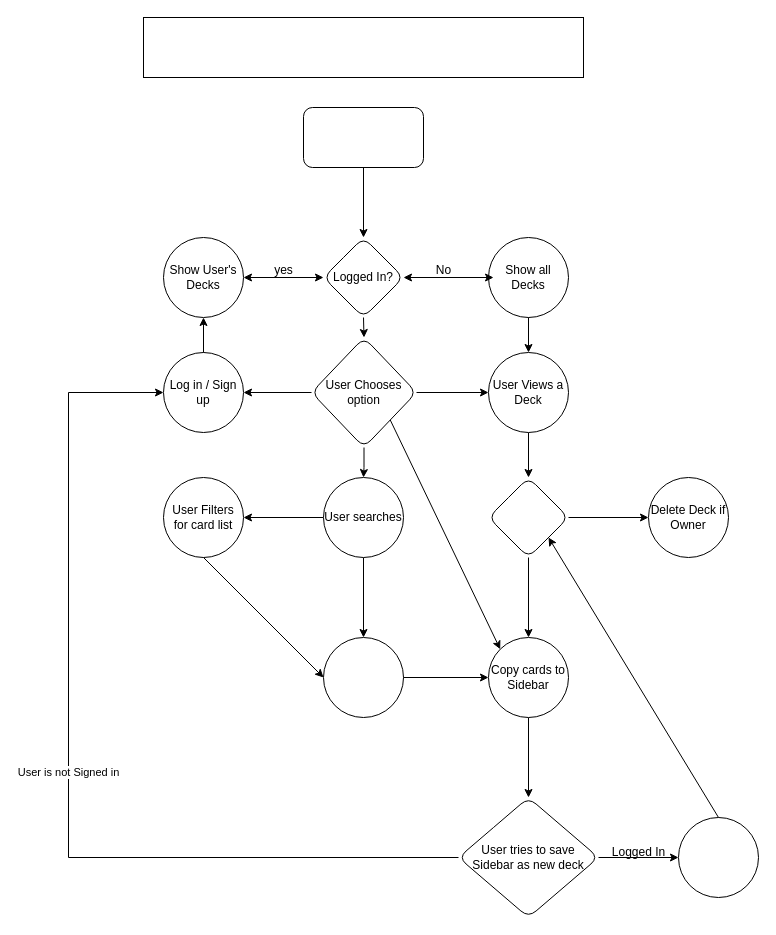
Some shapes in this 776 by 935 pixel diagram are drawn without their labels. Here are the shapes that lost their labels. From the top down, the centre of each, then its label:
the point at 363,47: Spellbinder User Flow Chart
the point at 363,137: Navigate to Spellbinder
the point at 528,517: Interact with Deck
the point at 363,677: Goes to a Specific Card page
the point at 718,857: Save new Deck
